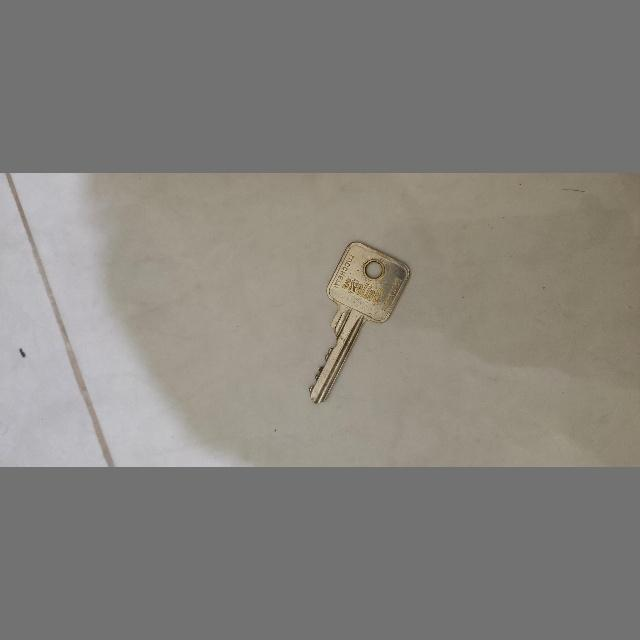Keys: (298, 243, 414, 412)
